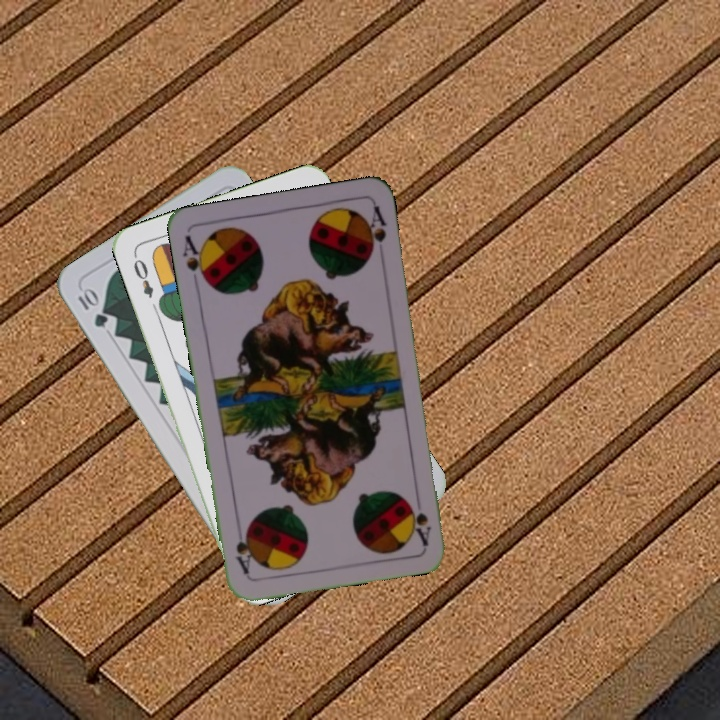EO: (129, 250, 156, 301)
G10: (73, 284, 111, 330)
SA: (179, 232, 211, 288), (409, 488, 434, 547)
